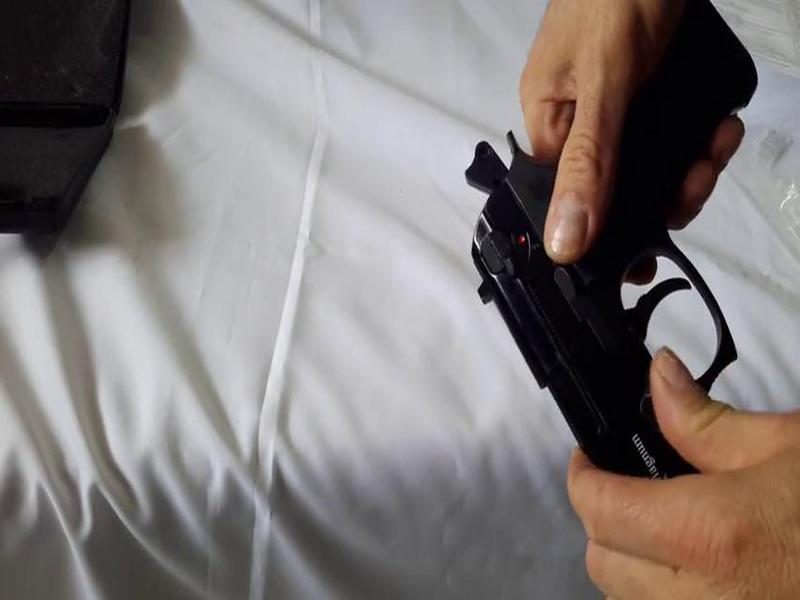Pistola: (436, 8, 763, 522)
